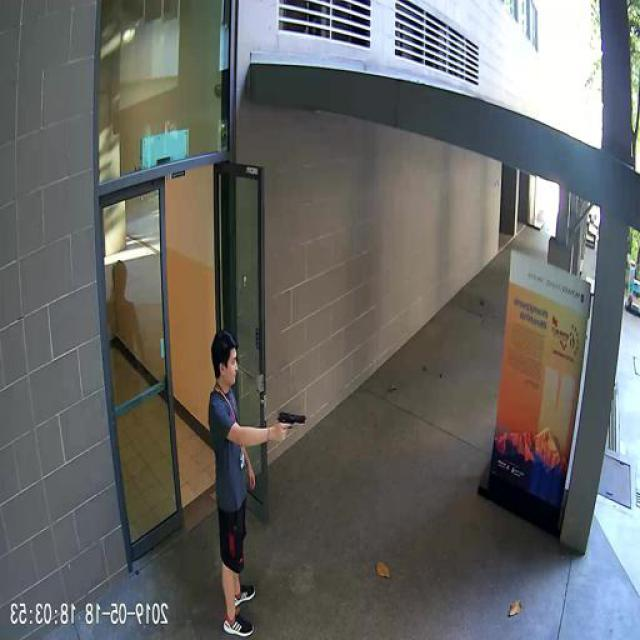Gun: (276, 408, 309, 442)
